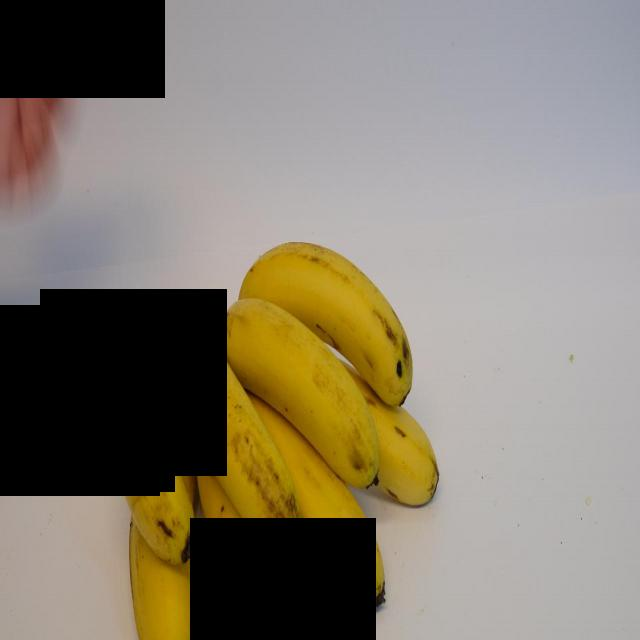banana: (217, 299, 376, 499), (231, 234, 414, 406), (248, 398, 393, 595), (293, 324, 450, 505), (182, 334, 304, 561), (194, 440, 312, 639), (115, 342, 191, 574), (127, 418, 200, 638)
